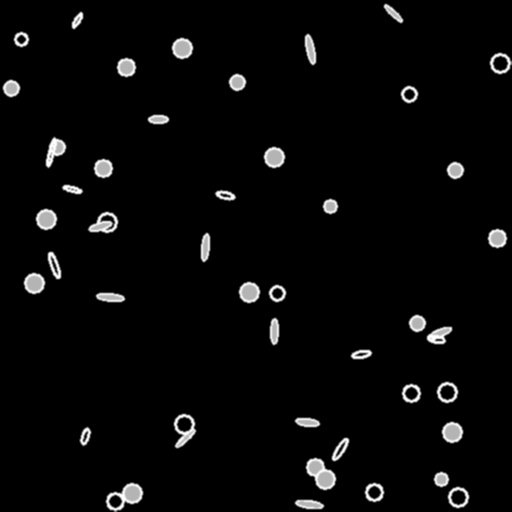pseudomonas: (174, 428, 196, 448), (331, 437, 349, 461), (46, 252, 62, 278), (426, 325, 452, 341), (304, 34, 316, 64), (383, 4, 403, 22), (45, 138, 57, 166), (88, 220, 112, 232), (96, 292, 124, 302), (296, 499, 322, 509), (200, 234, 210, 260), (70, 11, 84, 29), (295, 417, 319, 427), (79, 427, 91, 445), (215, 190, 235, 200), (351, 349, 371, 359), (63, 184, 81, 194), (428, 334, 444, 344), (271, 319, 277, 343), (149, 116, 167, 123)
synechocystis: (438, 383, 456, 401), (37, 210, 55, 228), (449, 488, 467, 506), (265, 148, 283, 166), (175, 415, 193, 433), (491, 54, 509, 72), (25, 274, 43, 292), (98, 213, 116, 231), (173, 39, 191, 57), (240, 283, 258, 301), (316, 470, 334, 488), (443, 423, 461, 441), (123, 484, 141, 502), (95, 160, 111, 176), (107, 493, 123, 509), (489, 230, 505, 246), (118, 59, 134, 75), (307, 459, 323, 475), (403, 385, 419, 401), (366, 484, 382, 500), (230, 75, 244, 89), (402, 87, 416, 101), (410, 316, 424, 330), (50, 140, 64, 154), (448, 163, 462, 177), (270, 286, 284, 300), (4, 81, 18, 95), (435, 473, 447, 485), (324, 200, 336, 212), (15, 33, 27, 45)
